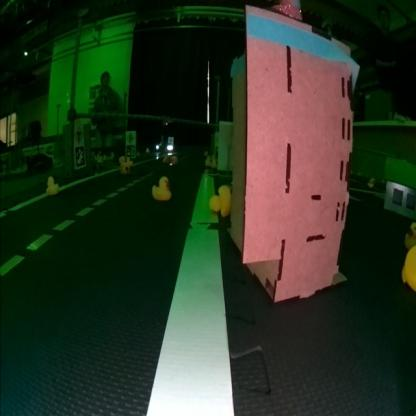Duckie: (209, 186, 232, 216), (154, 176, 172, 198), (405, 221, 415, 248), (48, 176, 58, 194), (121, 162, 132, 174), (173, 155, 178, 163)
QR code: (76, 146, 86, 166), (127, 145, 136, 155)
